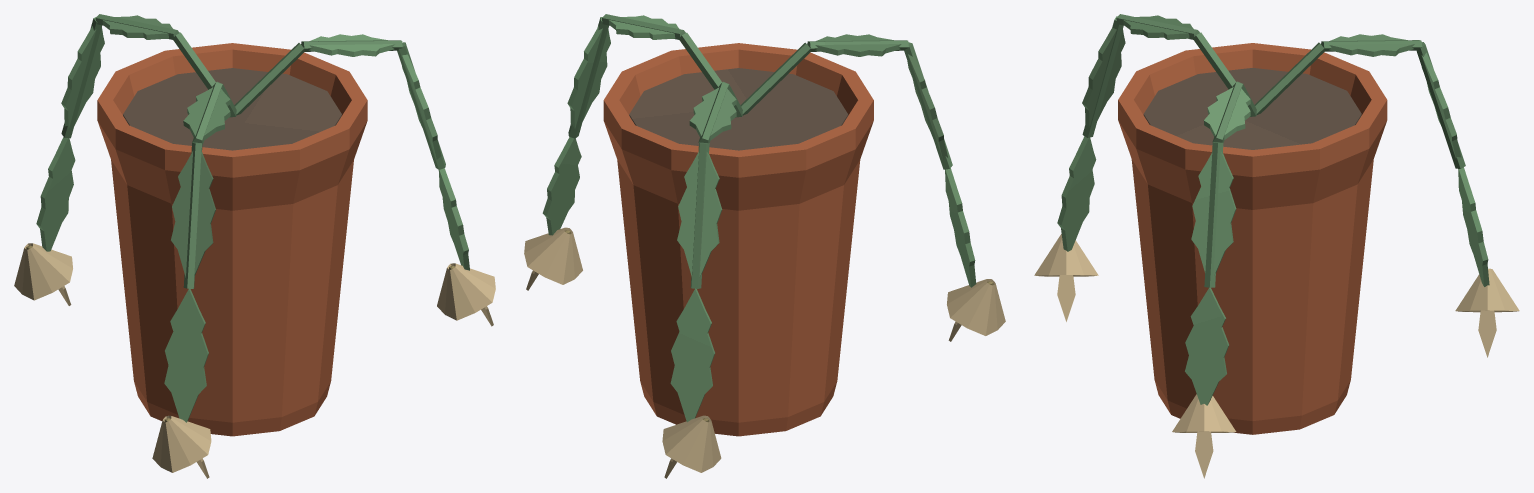
The model's file is new-truncata.glb.
3 renders of one model, left to right at view 1: azimuth 30°, elevation 25°; view 2: azimuth 150°, elevation 25°; view 3: azimuth 270°, elevation 25°, orthographic.
Visible parts, largest first — view 1: new-truncata/review-terra-vessel, new-truncata/review-rooted-soil, new-truncata/flattened-stem-segment-005, new-truncata/flattened-stem-segment-003, new-truncata/flattened-stem-segment-023, new-truncata/hollow-corolla-007, new-truncata/hollow-corolla-016, new-truncata/hollow-corolla-025, new-truncata/flattened-stem-segment-021, new-truncata/petiole-006, new-truncata/flattened-stem-segment-001, new-truncata/flattened-stem-segment-014 (+10 smaller); view 2: new-truncata/review-terra-vessel, new-truncata/review-rooted-soil, new-truncata/flattened-stem-segment-023, new-truncata/flattened-stem-segment-021, new-truncata/hollow-corolla-025, new-truncata/hollow-corolla-007, new-truncata/hollow-corolla-016, new-truncata/flattened-stem-segment-014, new-truncata/flattened-stem-segment-012, new-truncata/flattened-stem-segment-005, new-truncata/flattened-stem-segment-019, new-truncata/petiole-024 (+10 smaller); view 3: new-truncata/review-terra-vessel, new-truncata/review-rooted-soil, new-truncata/flattened-stem-segment-014, new-truncata/flattened-stem-segment-012, new-truncata/flattened-stem-segment-005, new-truncata/flattened-stem-segment-003, new-truncata/hollow-corolla-025, new-truncata/flattened-stem-segment-023, new-truncata/hollow-corolla-007, new-truncata/hollow-corolla-016, new-truncata/petiole-015, new-truncata/flattened-stem-segment-010 (+13 smaller).
Boxes of the visible parts, x1,y1,x2,y2 form: new-truncata/review-terra-vessel: [97, 43, 367, 436]; new-truncata/review-rooted-soil: [123, 68, 341, 150]; new-truncata/flattened-stem-segment-005: [164, 288, 208, 422]; new-truncata/flattened-stem-segment-003: [171, 151, 215, 277]; new-truncata/flattened-stem-segment-023: [36, 137, 75, 251]; new-truncata/hollow-corolla-007: [152, 415, 211, 472]; new-truncata/hollow-corolla-016: [437, 263, 495, 320]; new-truncata/hollow-corolla-025: [14, 243, 72, 300]; new-truncata/flattened-stem-segment-021: [61, 26, 104, 128]; new-truncata/petiole-006: [183, 142, 202, 288]; new-truncata/flattened-stem-segment-001: [183, 87, 230, 140]; new-truncata/flattened-stem-segment-014: [438, 168, 469, 270]; new-truncata/review-terra-vessel: [603, 43, 873, 436]; new-truncata/review-rooted-soil: [629, 68, 848, 150]; new-truncata/flattened-stem-segment-023: [670, 288, 714, 422]; new-truncata/flattened-stem-segment-021: [677, 152, 722, 277]; new-truncata/hollow-corolla-025: [662, 415, 721, 472]; new-truncata/hollow-corolla-007: [947, 279, 1005, 335]; new-truncata/hollow-corolla-016: [524, 227, 582, 284]; new-truncata/flattened-stem-segment-014: [542, 137, 581, 235]; new-truncata/flattened-stem-segment-012: [567, 26, 610, 128]; new-truncata/flattened-stem-segment-005: [945, 168, 976, 287]; new-truncata/flattened-stem-segment-019: [689, 87, 736, 140]; new-truncata/petiole-024: [690, 142, 709, 288]; new-truncata/review-terra-vessel: [1118, 43, 1387, 434]; new-truncata/review-rooted-soil: [1143, 68, 1361, 149]; new-truncata/flattened-stem-segment-014: [1185, 288, 1228, 405]; new-truncata/flattened-stem-segment-012: [1191, 151, 1236, 276]; new-truncata/flattened-stem-segment-005: [1057, 136, 1096, 251]; new-truncata/flattened-stem-segment-003: [1082, 28, 1125, 127]; new-truncata/hollow-corolla-025: [1455, 268, 1519, 312]; new-truncata/flattened-stem-segment-023: [1458, 167, 1489, 286]; new-truncata/hollow-corolla-007: [1034, 234, 1098, 276]; new-truncata/hollow-corolla-016: [1172, 394, 1236, 432]; new-truncata/petiole-015: [1204, 142, 1223, 287]; new-truncata/flattened-stem-segment-010: [1203, 87, 1250, 139].
Size of the model in its own units: 0.3274 by 0.2678 by 0.3429.
Materials: 5 (5 with a texture image).
